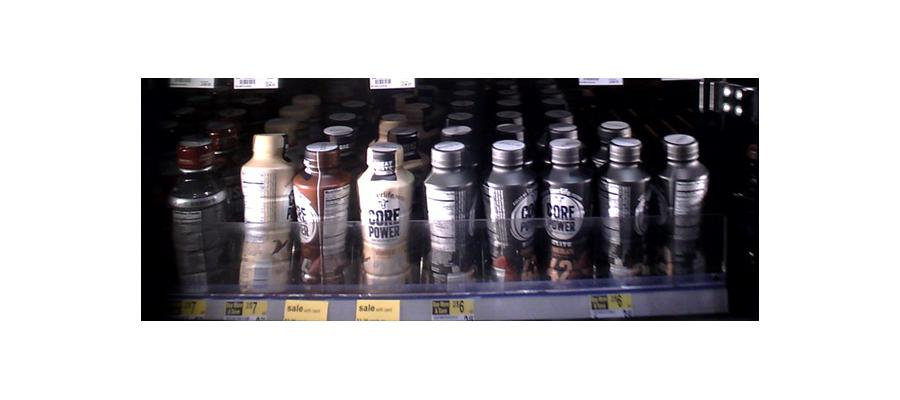bottle: (169, 141, 235, 299), (238, 132, 292, 296), (295, 138, 354, 284), (425, 138, 480, 293), (358, 135, 414, 287), (486, 137, 540, 286), (600, 134, 650, 287), (660, 126, 708, 282), (545, 137, 594, 286)
